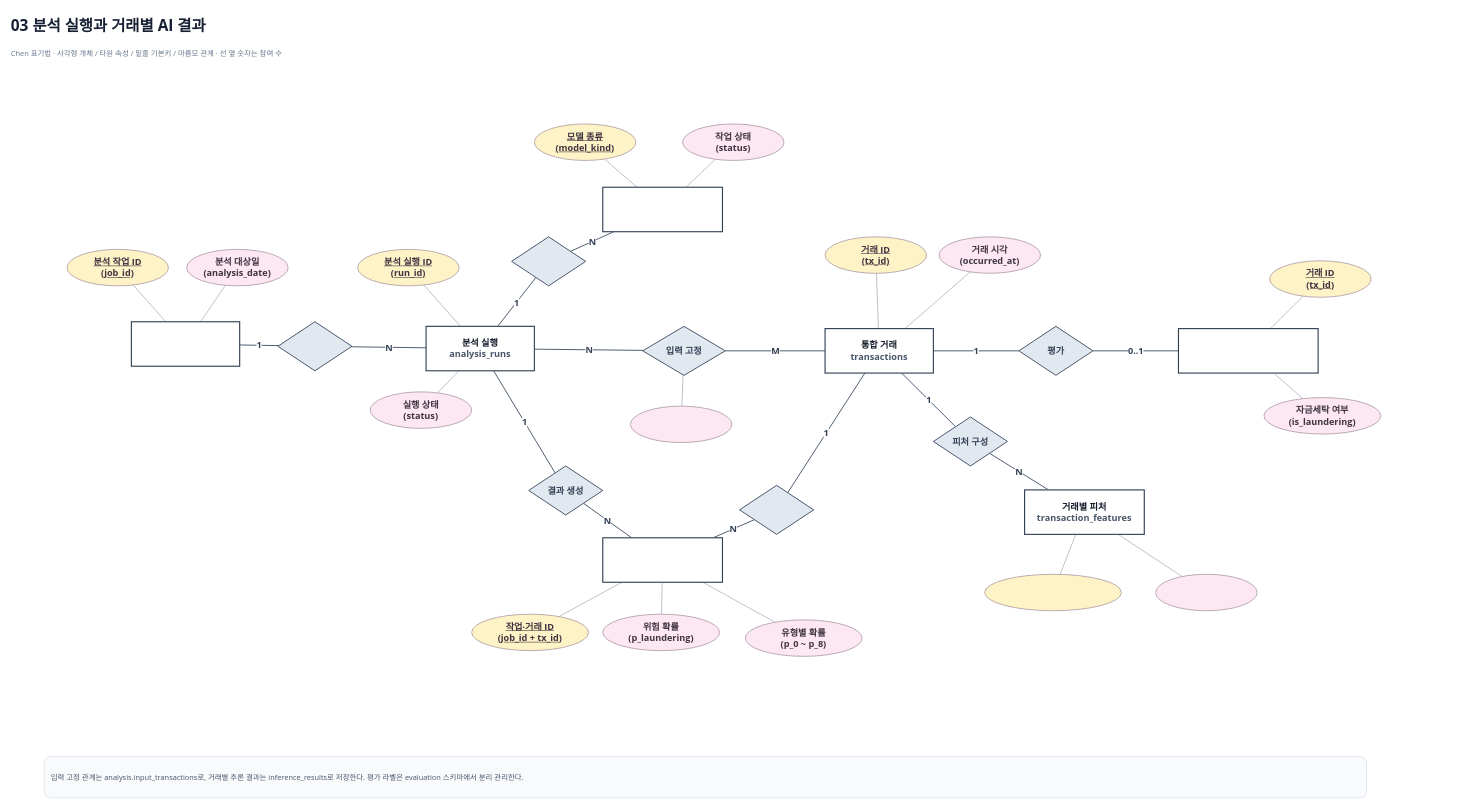
This 1479x808 diagram has some shape labels left out. Each missing label, with the centre of its shape:
"모델 준비" goes at (x=548, y=261).
"모델별 작업 analysis_model_tasks" goes at (x=662, y=209).
"분석 작업 batch_jobs" goes at (x=185, y=344).
"실행" goes at (x=314, y=346).
"입력 역할 (input_role)" goes at (x=681, y=424).
"작업·거래·모델 (job_id + tx_id + model_kind)" goes at (x=1053, y=592).
"점수 산출" goes at (x=776, y=510).
"추론 결과 inference_results" goes at (x=662, y=560).
"평가 라벨 evaluation.transaction_labels" goes at (x=1248, y=350).
"피처 데이터 (features)" goes at (x=1206, y=592).
